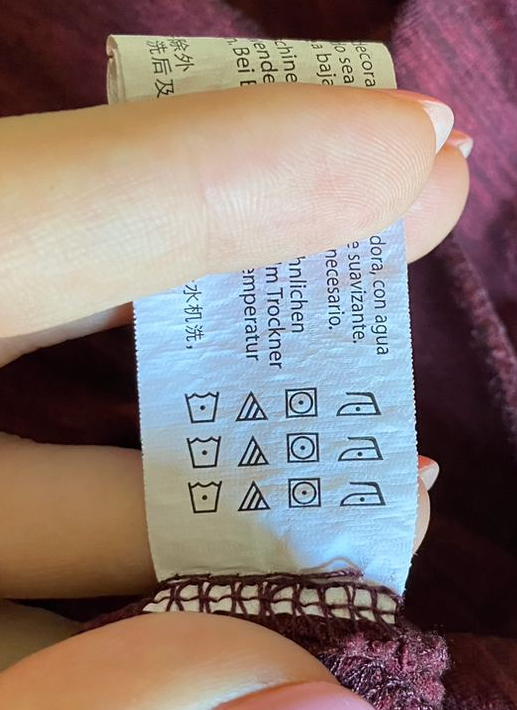ironing_at_low_temp: (333, 386, 383, 421), (335, 429, 385, 464), (337, 475, 387, 510)
non_chlorine_bleach_when_needed: (231, 387, 270, 425), (235, 431, 273, 469), (235, 479, 273, 514)
tumble_drying_low_temps: (283, 383, 322, 421), (284, 472, 323, 510), (284, 428, 322, 465)
wash_at_or_below_30: (184, 476, 225, 517), (184, 432, 225, 472), (183, 387, 222, 428)
